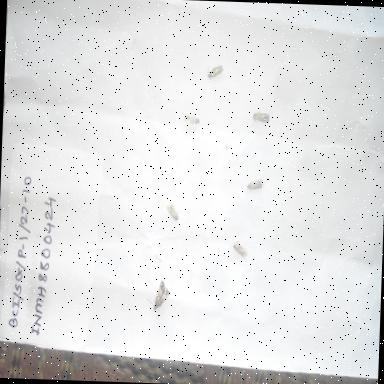pbw: (150, 277, 174, 314), (250, 108, 274, 129), (182, 111, 202, 131), (204, 60, 224, 80), (231, 239, 250, 260), (242, 176, 264, 194), (166, 202, 178, 222)
